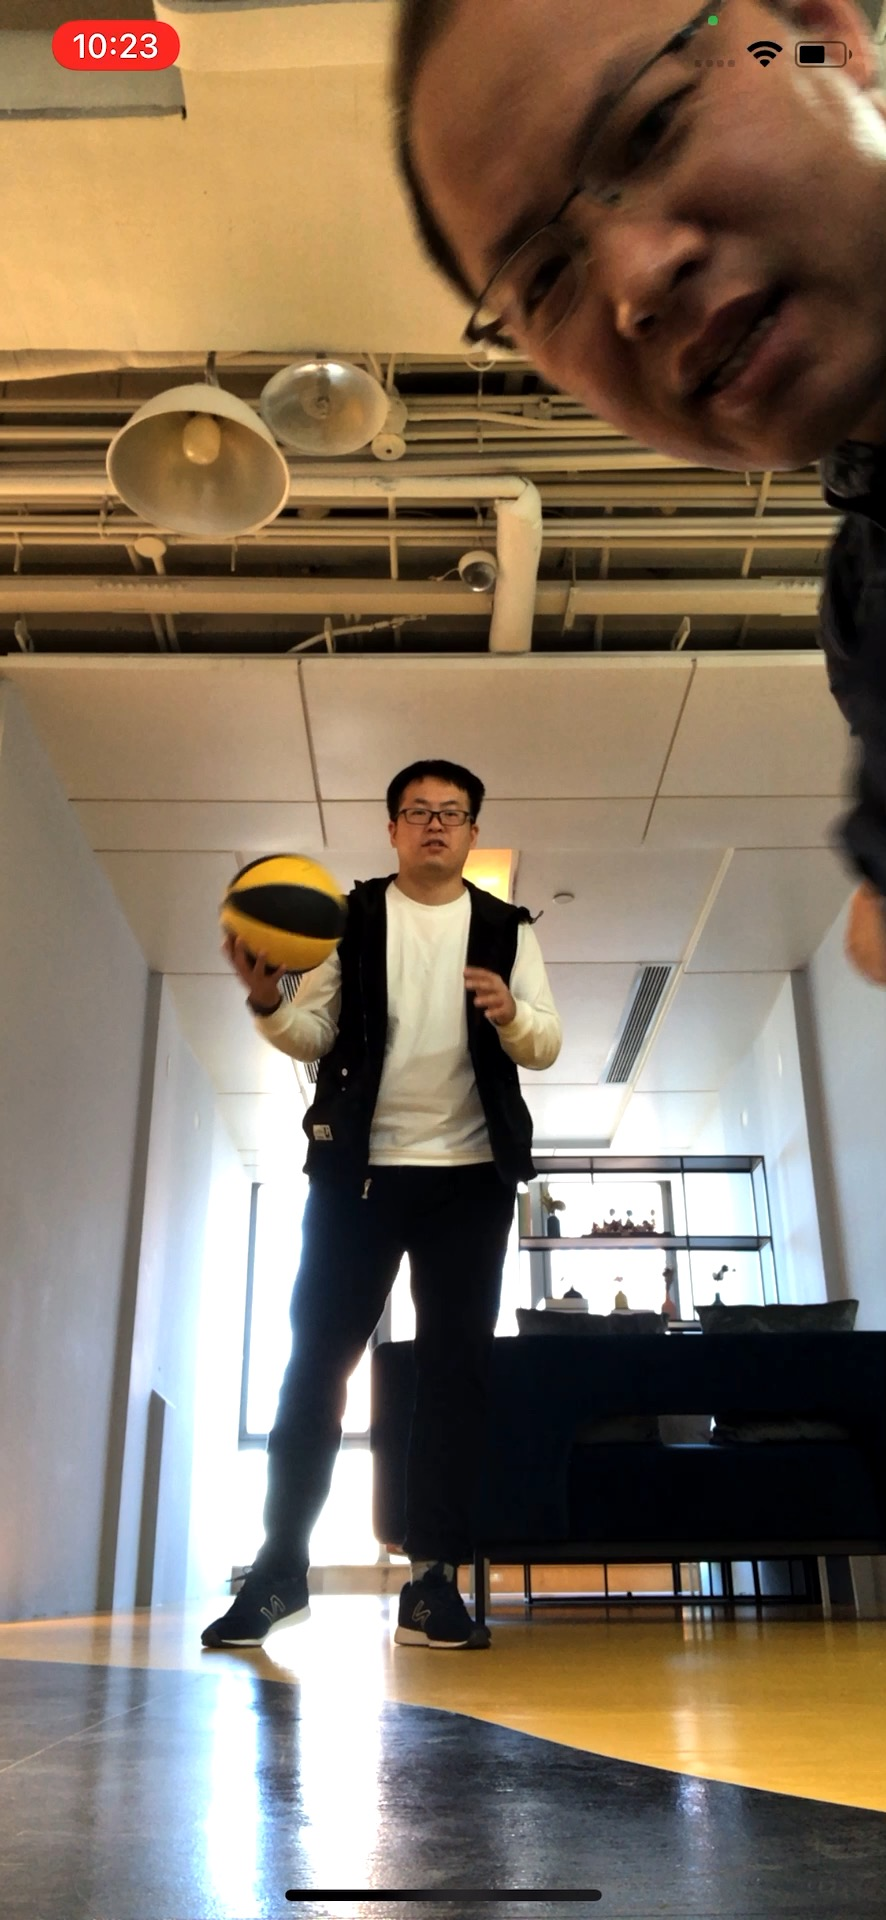ball: (218, 853, 345, 972)
